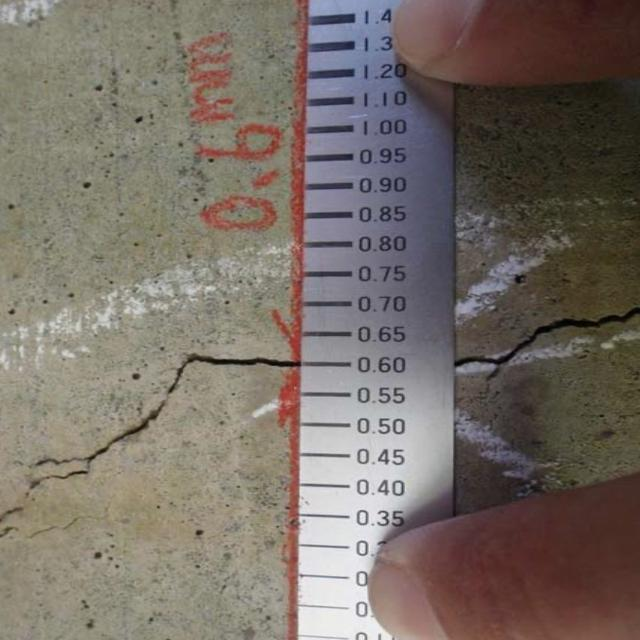crack: (0, 337, 290, 529), (453, 300, 636, 403)
